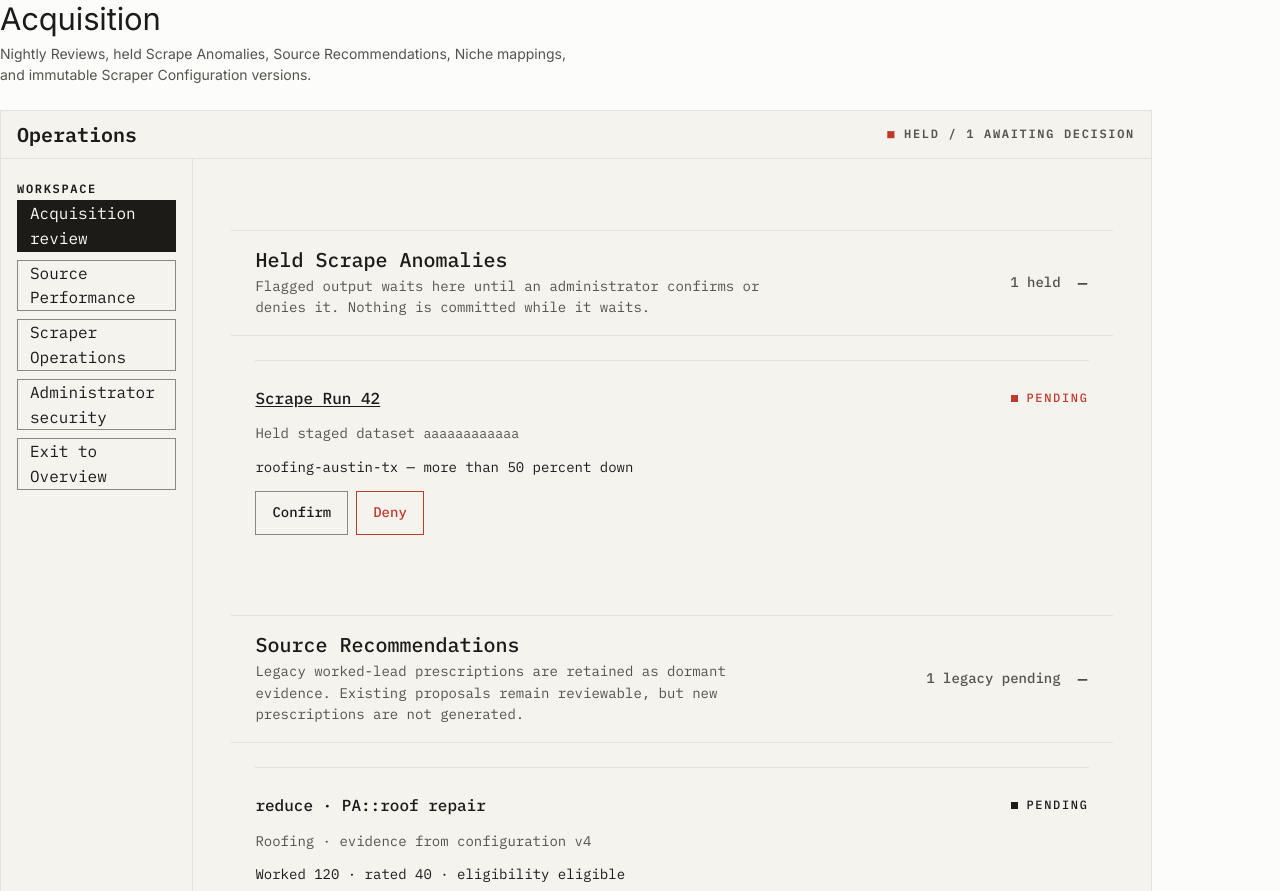
Scenario: Scrape Anomaly decisions › refuses to submit a decision without a reason
The image size is (1280, 891).
Click the button "Deny" at (390, 513), box top-left (356, 491), bottom-right (424, 535)
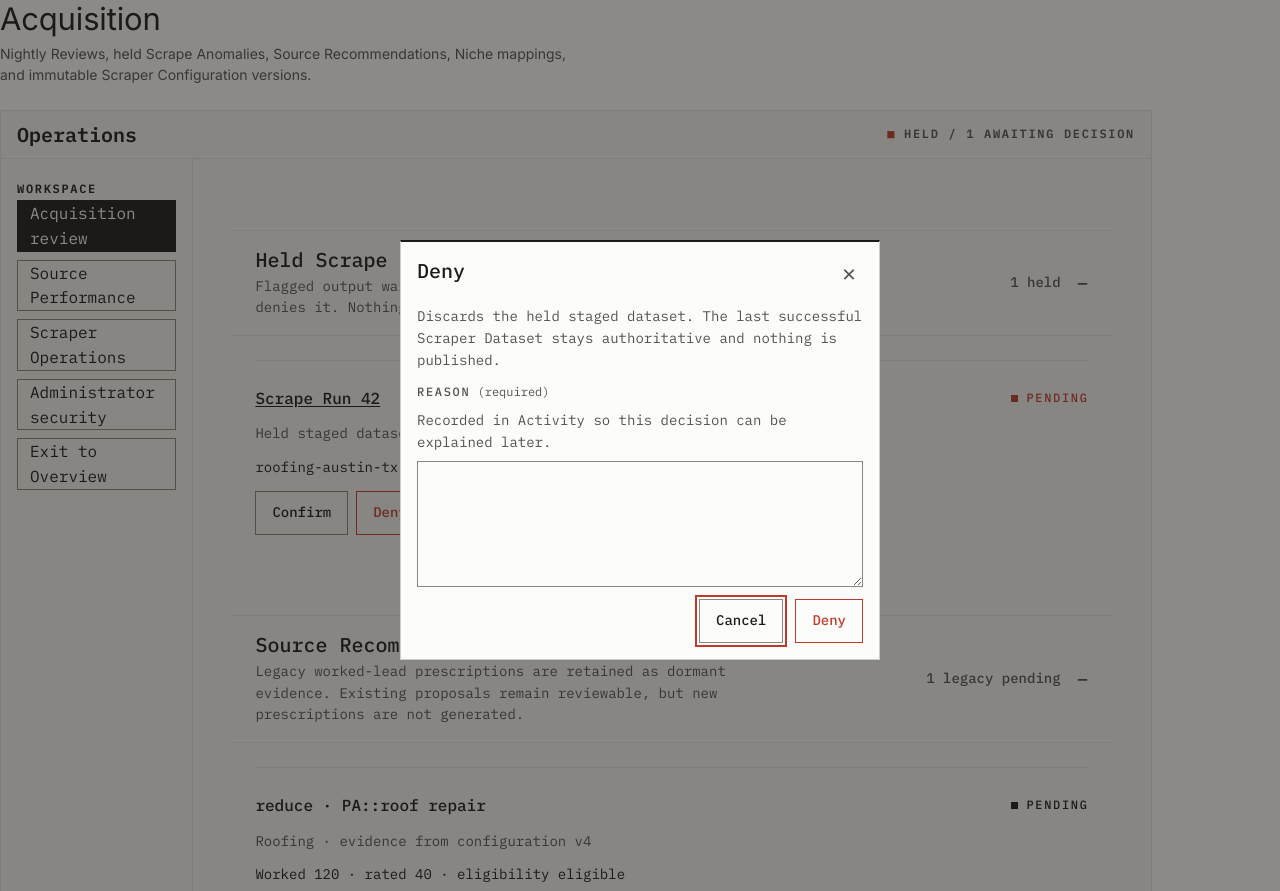
Click the 2nd button "Deny" at (829, 621), box top-left (795, 599), bottom-right (863, 643)
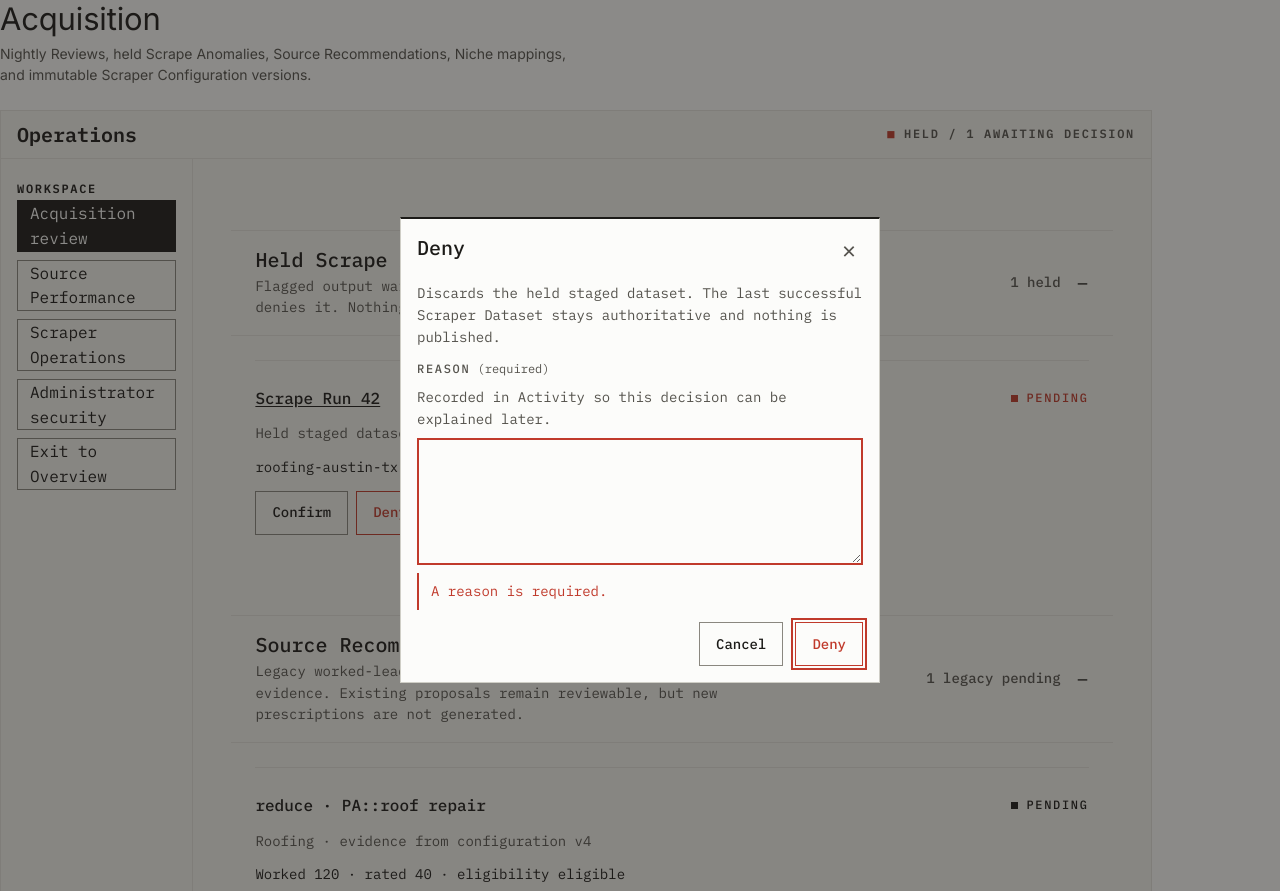
Expected: the text "A reason is required." is shown, top-left (417, 573), bottom-right (863, 610)
